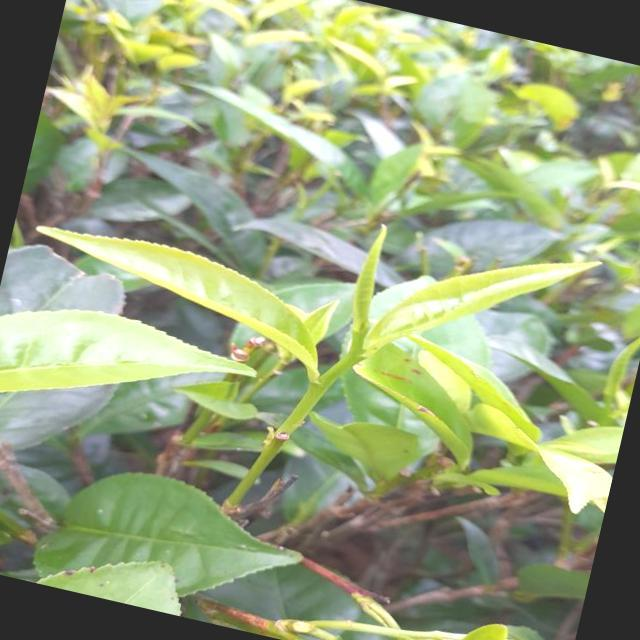Stem: (351, 349, 366, 360)
